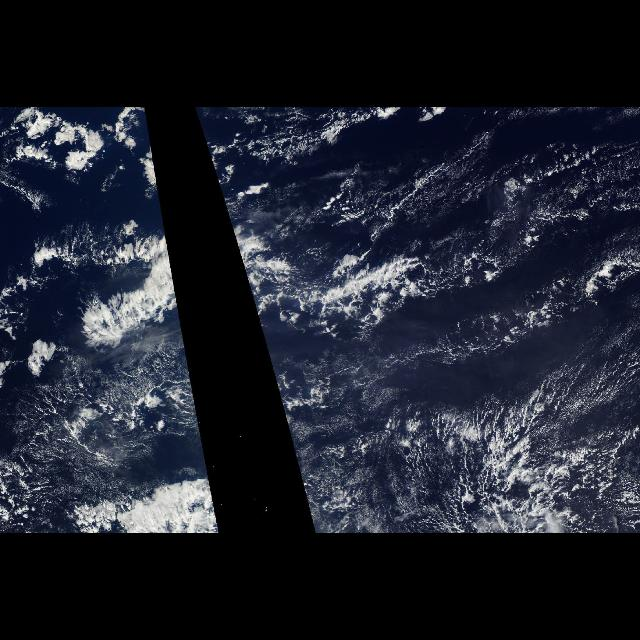Fish: (220, 188, 640, 438), (13, 188, 203, 438)
Gravel: (328, 407, 640, 533)
Sugar: (369, 127, 509, 246), (512, 316, 638, 426), (320, 442, 460, 528), (330, 344, 466, 420)
